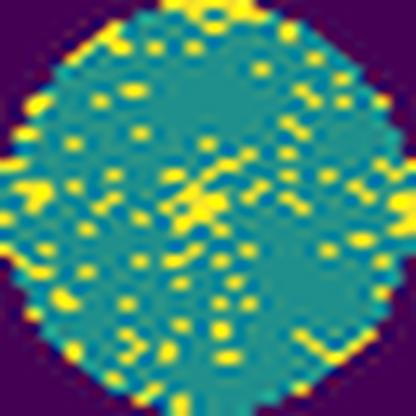Center: (157, 134, 263, 235)
